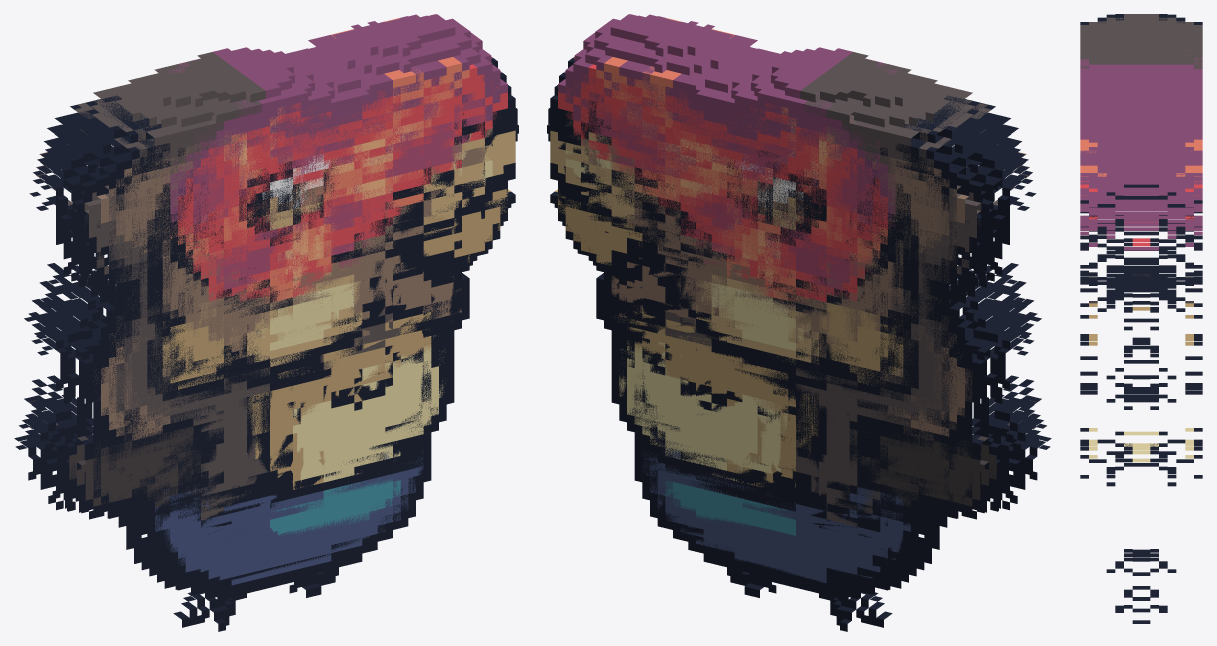
File: carregando_minerio_parado.glb
3 renders of one model, left to right at view 1: azimuth 30°, elevation 25°; view 2: azimuth 150°, elevation 25°; view 3: azimuth 270°, elevation 25°, orthographic.
Visible parts, largest first — view 1: q0, q1, q3, q2, q6, q7, q5, q4; view 2: q0, q1, q2, q3, q6, q7, q5, q4; view 3: q3, q2, q7, q6, q0, q1, q4, q5.
Part boxes in pixels (box(x1,y1,x2,y2)): q0: box(32, 37, 484, 631); q1: box(47, 89, 507, 601); q3: box(47, 14, 518, 543); q2: box(47, 59, 507, 584); q6: box(22, 41, 484, 586); q7: box(14, 20, 469, 543); q5: box(29, 90, 499, 599); q4: box(31, 84, 507, 593); q0: box(581, 37, 1033, 631); q1: box(558, 88, 1018, 601); q2: box(558, 58, 1018, 603); q3: box(547, 14, 1018, 559); q6: box(581, 42, 1043, 584); q7: box(588, 20, 1051, 538); q5: box(565, 93, 1036, 599); q4: box(558, 77, 1034, 593); q3: box(1080, 42, 1202, 478); q2: box(1080, 35, 1202, 473); q7: box(1080, 17, 1202, 470); q6: box(1080, 14, 1202, 443); q0: box(1080, 102, 1202, 623); q1: box(1080, 180, 1202, 398); q4: box(1080, 72, 1202, 486); q5: box(1080, 192, 1202, 478).
Size of the model in its own units: 62 by 67 by 14.
Materials: 1 (1 with a texture image).
